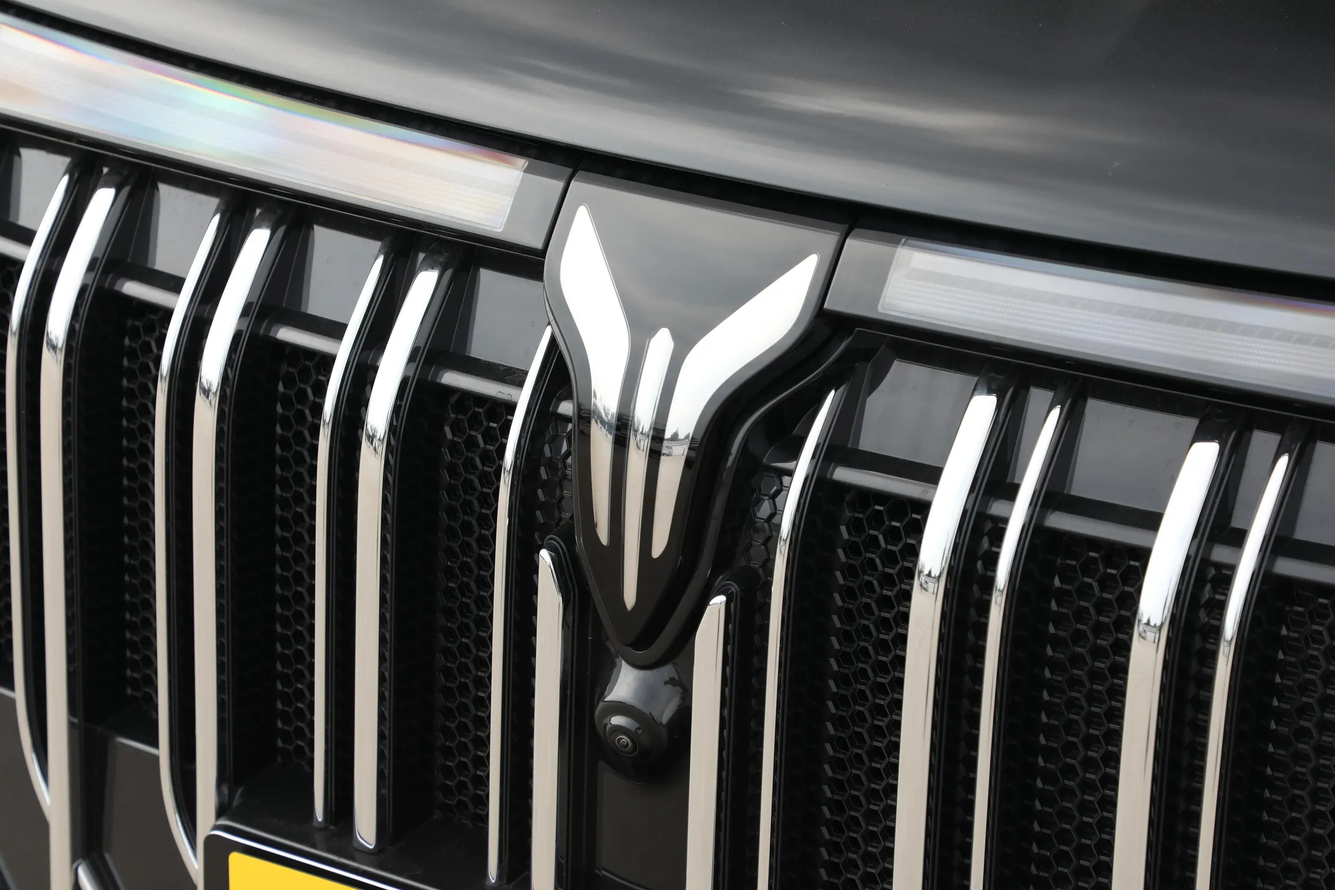VOYAH: (559, 203, 818, 611)
